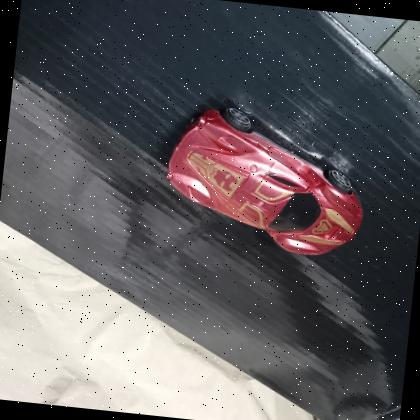Car: (152, 93, 378, 270)
